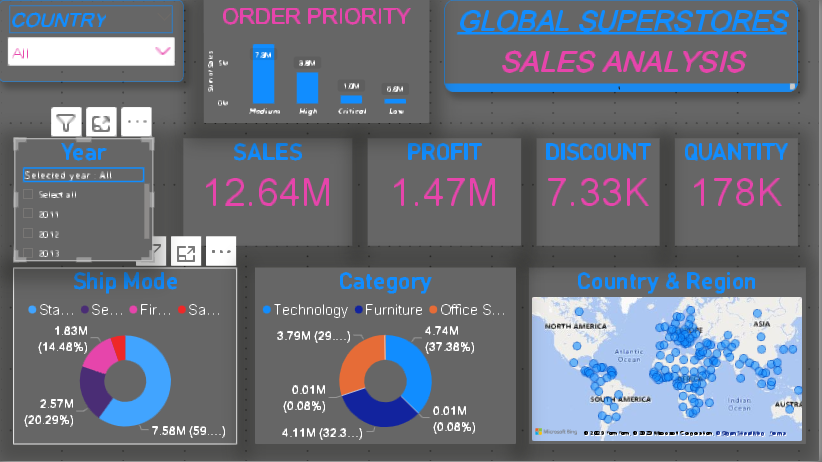

Layout of this report page (visuals, bound fields, positions):
{"tool":"powerbi","page":{"name":"Page 1","canvas":[1280,720],"ordinal":0},"visuals":[{"type":"slicer","title":"Year","fields":{"Values":["Orders.FYI"]},"box":[21.6,203.5,214.3,198.1],"z":0},{"type":"card","title":"SALES","fields":{"Values":["Sum(Orders.Sales)"]},"box":[264.9,205.4,256.8,145.9],"z":1000},{"type":"map","title":" Country & Region","fields":{"Category":["Orders.Country","Orders.Region"]},"box":[827,418.9,432.4,275.7],"z":2000},{"type":"pieChart","title":"Ship Mode","fields":{"Category":["Orders.Ship Mode"],"Y":["Sum(Orders.Sales)"]},"box":[21.6,418.9,351.4,275.7],"z":3000},{"type":"card","title":"QUANTITY","fields":{"Values":["Sum(Orders.Quantity)"]},"box":[1064.9,202.7,194.6,145.9],"z":4000},{"type":"card","title":"DISCOUNT","fields":{"Values":["Sum(Orders.Discount)"]},"box":[827,205.4,216.2,143.2],"z":5000},{"type":"textbox","title":"GLOBAL SUPERSTORES ","box":[640.5,13.5,618.9,132.4],"z":6000},{"type":"image","box":[21.6,2.7,213.5,200],"z":7000},{"type":"card","title":"PROFIT","fields":{"Values":["Sum(Orders.Profit)"]},"box":[556.4,205.5,250.9,149.1],"z":8000},{"type":"slicer","fields":{"Values":["Orders.Country"]},"box":[286.5,13.5,300,118.9],"z":9000},{"type":"pieChart","title":"Category","fields":{"Y":["Sum(Orders.Sales)"],"Category":["Orders.Category"]},"box":[400,418.9,408.1,275.7],"z":10000}]}

Visuals, with their boxes in screenshot pixels (x1, y1, x2, y2):
"Year" slicer: rect(14, 131, 149, 256)
"SALES" card: rect(168, 132, 330, 225)
" Country & Region" map: rect(524, 267, 798, 442)
"Ship Mode" pieChart: rect(14, 267, 236, 442)
"QUANTITY" card: rect(674, 131, 798, 223)
"DISCOUNT" card: rect(524, 132, 661, 223)
"GLOBAL SUPERSTORES " textbox: rect(406, 11, 798, 95)
image: rect(14, 4, 149, 131)
"PROFIT" card: rect(352, 132, 511, 227)
slicer - Orders.Country: rect(181, 11, 371, 86)
"Category" pieChart: rect(253, 267, 512, 442)
